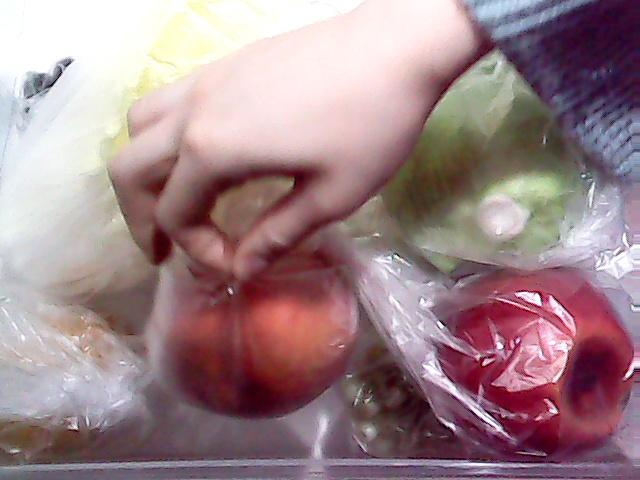apple: (419, 254, 640, 452)
cabbage: (381, 62, 601, 286)
grape: (331, 342, 441, 464), (12, 56, 86, 122)
napa cabbage: (1, 6, 352, 290)
peach: (158, 243, 362, 423)
potato: (0, 288, 156, 464)
